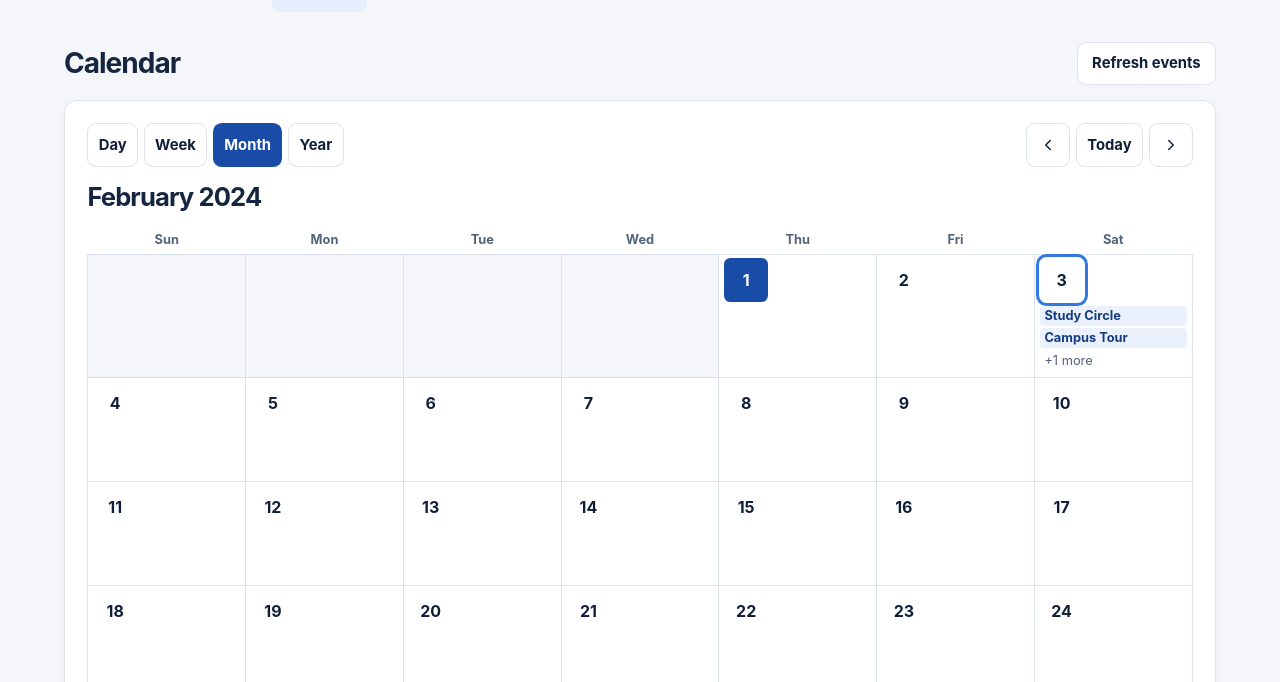
renders calendar dates, combines event pages, handles overflow and opens the existing details
The image size is (1280, 682).
(page scrolled)
expect the heading "Calendar" is shown: met, box [64,48,180,80]
expect the button named "Thursday, February 1, 2024, 0 events" is shown: met, box [724,258,768,302]
Press Enter
(page scrolled)
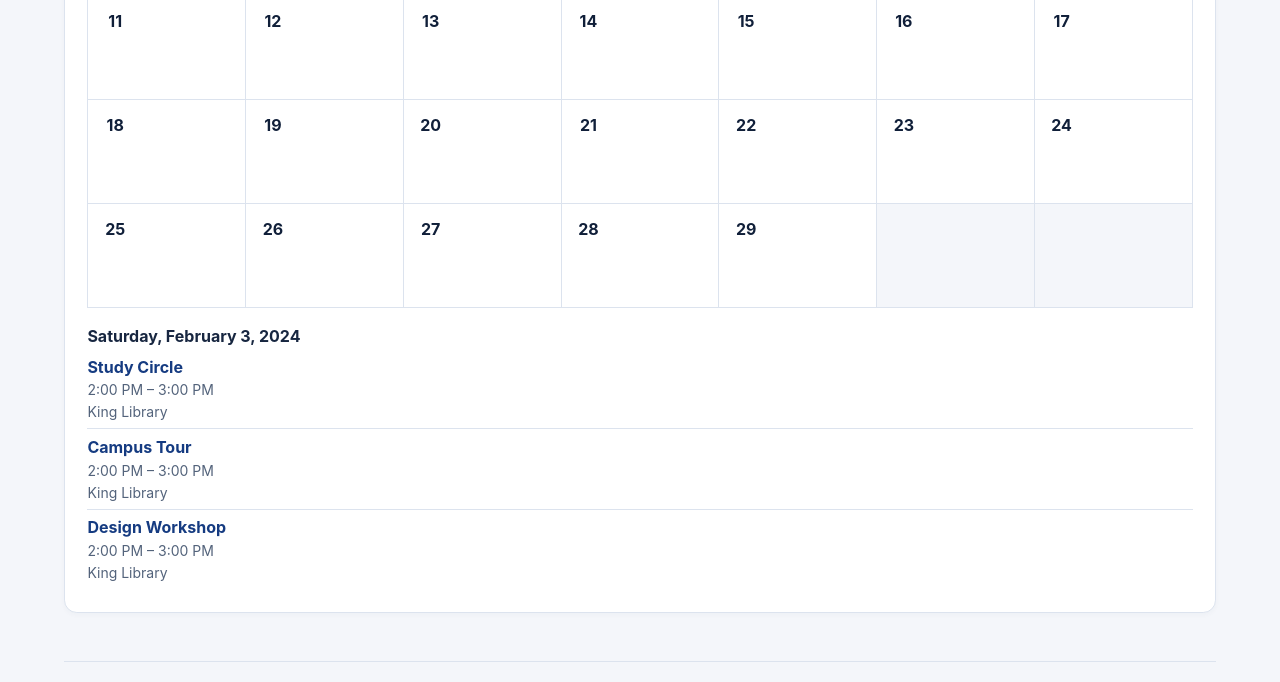
expect the text "2:00 PM" is shown 3 times: met, box [87,382,143,398]; [87,462,143,479]; [87,542,143,559]
expect the text "3:00 PM" is shown 3 times: met, box [158,382,214,398]; [158,462,214,479]; [158,542,214,559]
Click the link "Study Circle": (135, 367) [87,357,183,377]
(page scrolled)
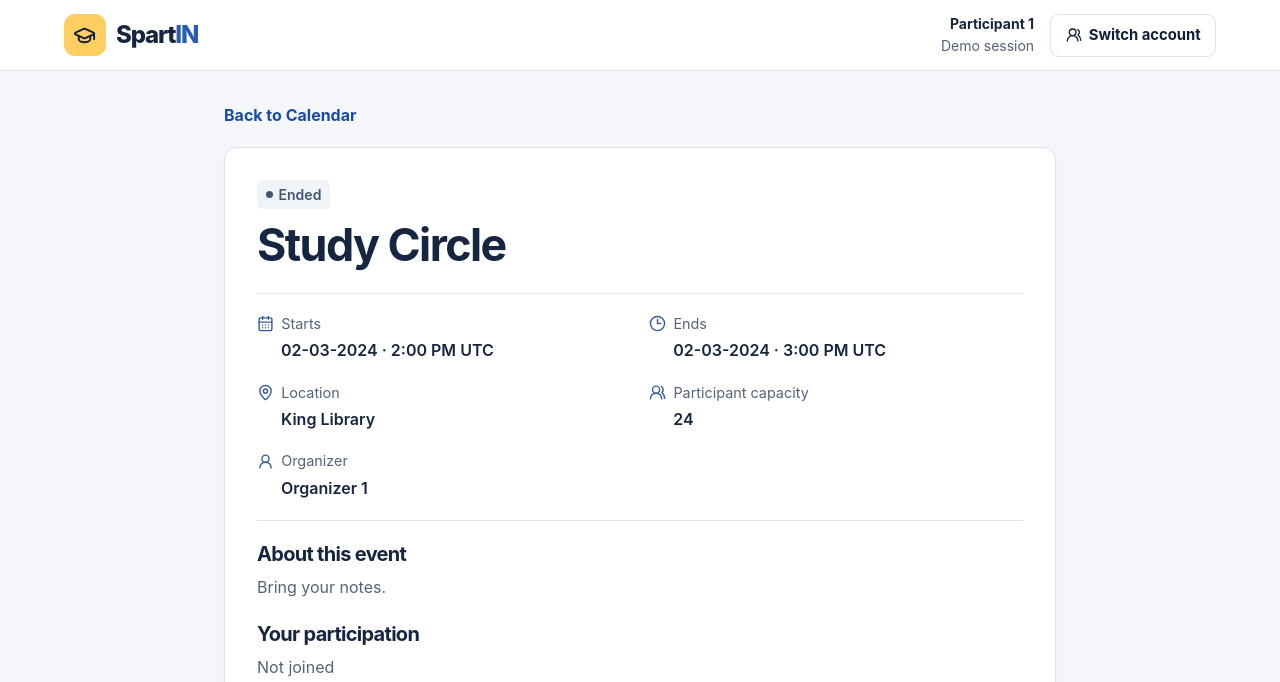
expect the heading "Study Circle" is shown: met, box [257,220,506,270]
Click the link "Back to Calendar": (290, 116) [224,103,356,128]
(page scrolled)
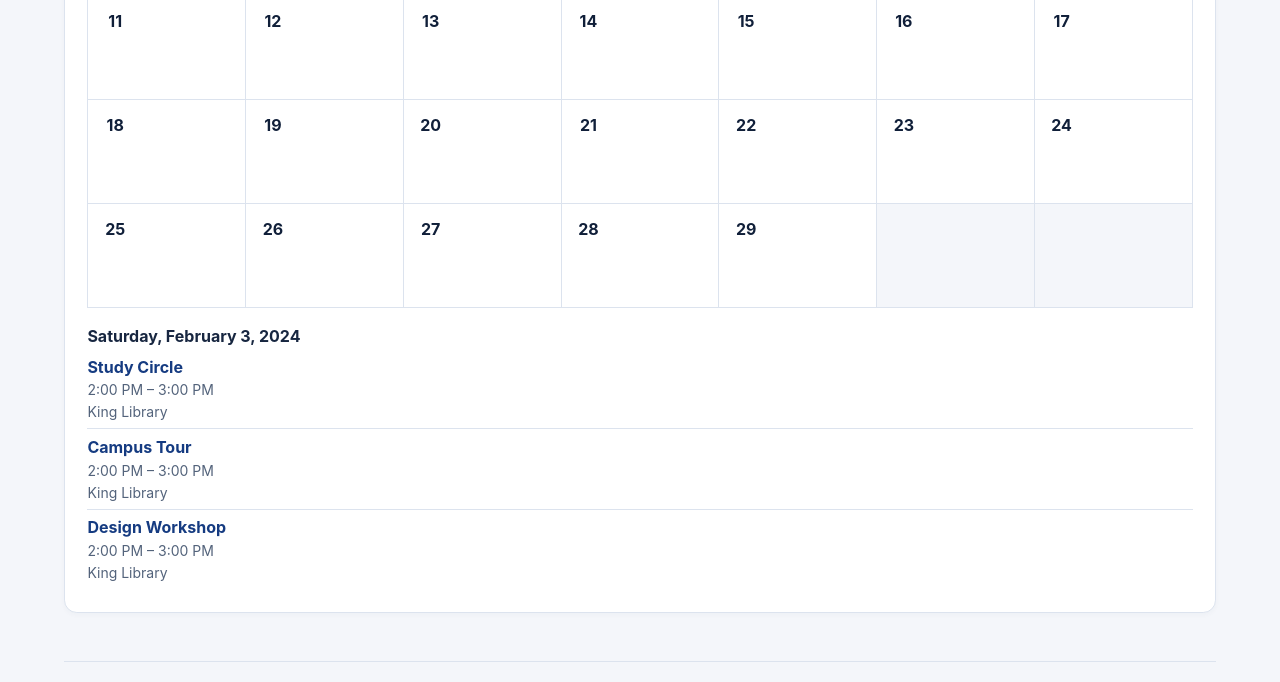
expect the element "Saturday, February 3, 2024" is shown: met, box [87,324,1193,589]
